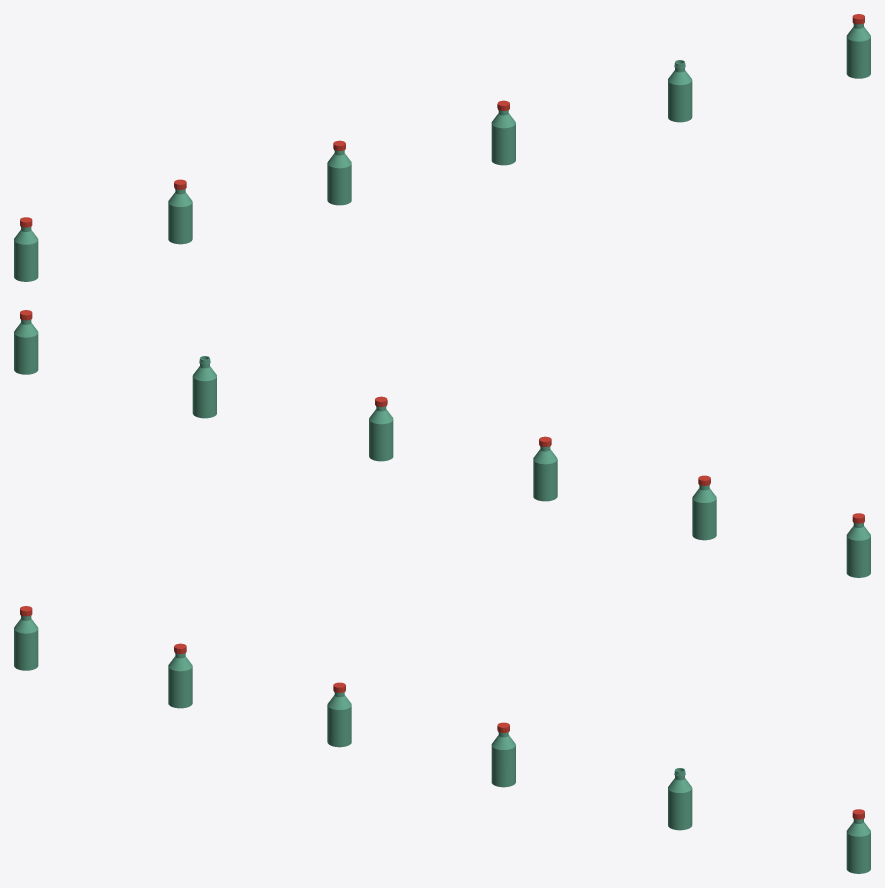
The model's file is cap-check.glb.
The picture shows the model from 3 angles, top to bottom: view 1: azimuth 30°, elevation 25°; view 2: azimuth 150°, elevation 25°; view 3: azimuth 330°, elevation 25°; orthographic projection.
Visible parts, largest first — view 1: TCAS_concept_cap_sample_4_hollow_bottle, TCAS_concept_cap_sample_1_hollow_bottle, TCAS_concept_cap_sample_3_hollow_bottle, TCAS_concept_cap_sample_2_hollow_bottle, TCAS_concept_cap_sample_0_hollow_bottle, TCAS_concept_cap_sample_5_hollow_bottle; view 2: TCAS_concept_cap_sample_4_hollow_bottle, TCAS_concept_cap_sample_1_hollow_bottle, TCAS_concept_cap_sample_3_hollow_bottle, TCAS_concept_cap_sample_2_hollow_bottle, TCAS_concept_cap_sample_0_hollow_bottle, TCAS_concept_cap_sample_5_hollow_bottle; view 3: TCAS_concept_cap_sample_4_hollow_bottle, TCAS_concept_cap_sample_1_hollow_bottle, TCAS_concept_cap_sample_2_hollow_bottle, TCAS_concept_cap_sample_3_hollow_bottle, TCAS_concept_cap_sample_5_hollow_bottle, TCAS_concept_cap_sample_0_hollow_bottle.
Part boxes in pixels (box(x1,y1,x2,y2)): TCAS_concept_cap_sample_4_hollow_bottle: box(668, 60, 692, 122); TCAS_concept_cap_sample_1_hollow_bottle: box(168, 189, 192, 244); TCAS_concept_cap_sample_3_hollow_bottle: box(491, 111, 515, 165); TCAS_concept_cap_sample_2_hollow_bottle: box(327, 151, 351, 205); TCAS_concept_cap_sample_0_hollow_bottle: box(14, 227, 38, 281); TCAS_concept_cap_sample_5_hollow_bottle: box(846, 24, 870, 78); TCAS_concept_cap_sample_4_hollow_bottle: box(192, 356, 216, 418); TCAS_concept_cap_sample_1_hollow_bottle: box(692, 485, 716, 540); TCAS_concept_cap_sample_3_hollow_bottle: box(369, 407, 393, 461); TCAS_concept_cap_sample_2_hollow_bottle: box(533, 447, 557, 501); TCAS_concept_cap_sample_0_hollow_bottle: box(846, 523, 870, 577); TCAS_concept_cap_sample_5_hollow_bottle: box(14, 320, 38, 374); TCAS_concept_cap_sample_4_hollow_bottle: box(668, 768, 692, 830); TCAS_concept_cap_sample_1_hollow_bottle: box(168, 653, 192, 708); TCAS_concept_cap_sample_2_hollow_bottle: box(327, 692, 351, 747); TCAS_concept_cap_sample_3_hollow_bottle: box(491, 733, 515, 787); TCAS_concept_cap_sample_5_hollow_bottle: box(846, 819, 870, 873); TCAS_concept_cap_sample_0_hollow_bottle: box(14, 616, 38, 670).
Bounding box in the file's own units: 3.49 × 0.222 × 0.086.
